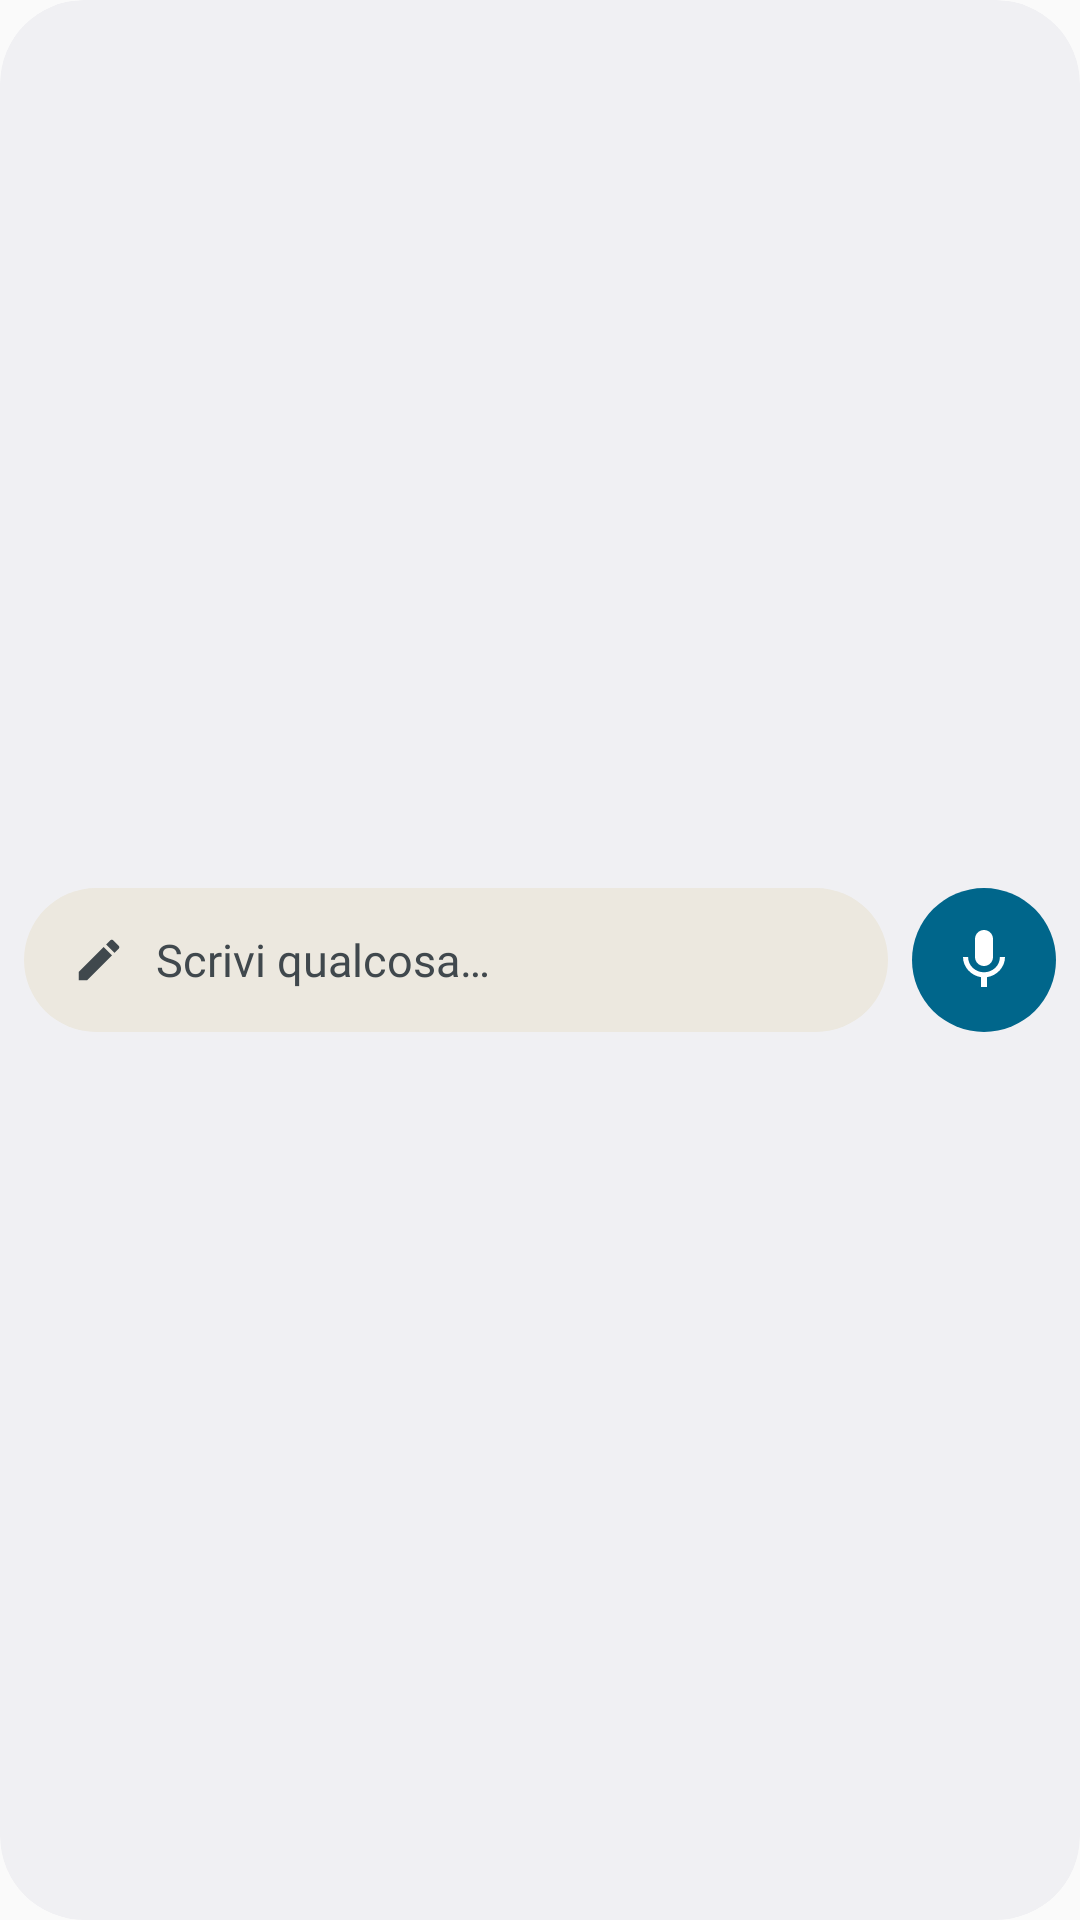

Point at icon controls on the screen. Image size 1080x1920, points as point (x, y).
widget edit: point (99, 960)
